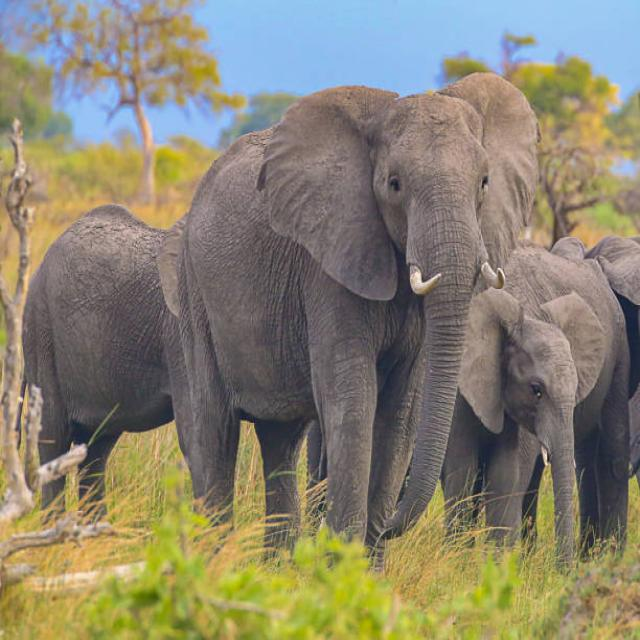Elephant: (178, 40, 522, 616), (0, 159, 208, 563), (459, 224, 640, 596)
